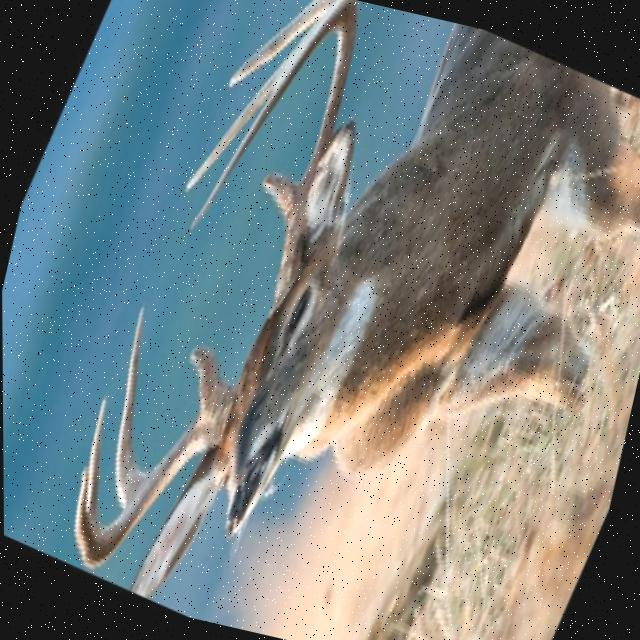L-F: (188, 0, 357, 318)
L-G1: (259, 169, 304, 234)
L-G2: (226, 0, 335, 89)
L-G3: (181, 0, 338, 198)
R-F: (71, 382, 234, 572)
R-G1: (185, 345, 219, 416)
R-G2: (113, 303, 150, 511)
R-G3: (86, 393, 105, 522)
